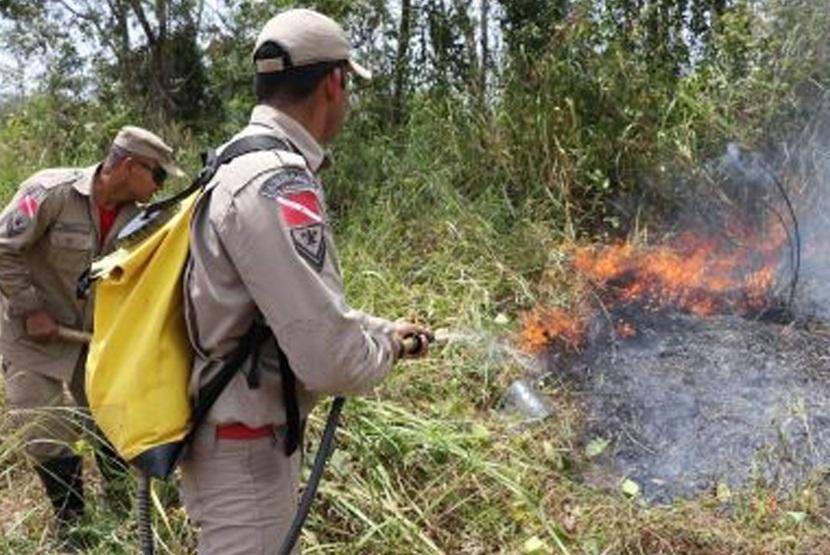fire: (555, 220, 763, 312)
smoke: (612, 329, 792, 427)
